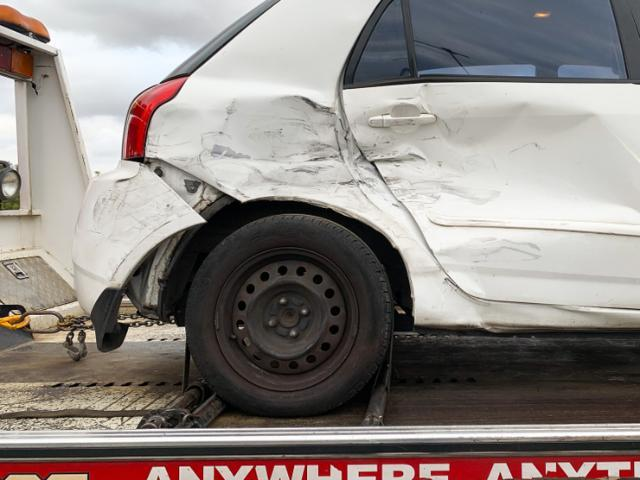Bumper: (72, 160, 210, 356)
Door: (340, 39, 639, 307)
Fender: (146, 75, 564, 330)
